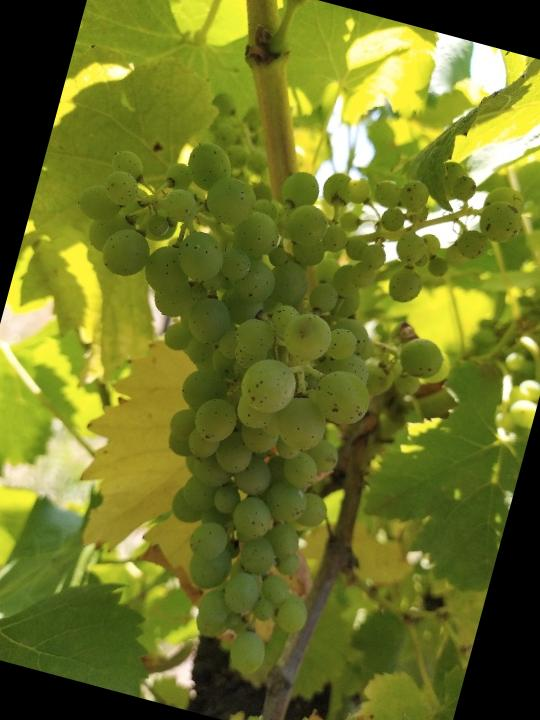grape: (0, 69, 537, 716)
